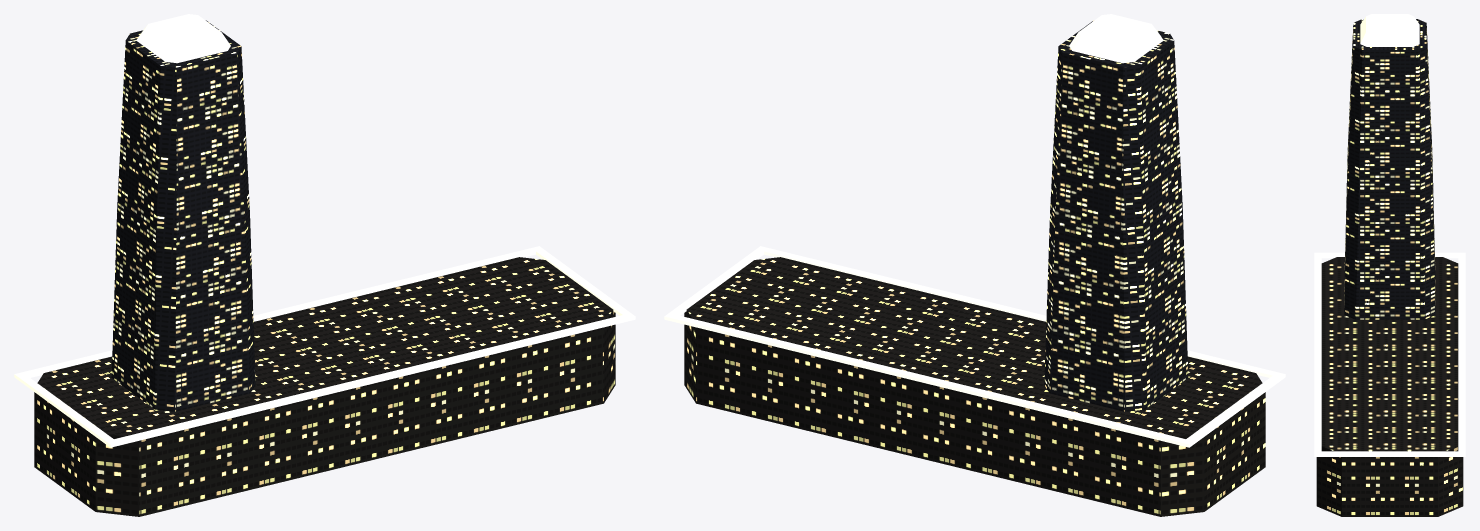
Rendered from jb-city-square.glb.
3 views of the same model, side by side, from view 1: azimuth 30°, elevation 25°; view 2: azimuth 150°, elevation 25°; view 3: azimuth 270°, elevation 25° (orthographic). The views are drawn at different scales.
Visible parts, largest first — view 1: mall, tower, mall-led, crown; view 2: mall, tower, mall-led, crown; view 3: mall, tower, mall-led, crown.
Boxes of the visible parts, x1=… form: mall: x1=34, y1=257, x2=615, y2=516; tower: x1=111, y1=20, x2=255, y2=411; mall-led: x1=14, y1=246, x2=635, y2=447; crown: x1=136, y1=14, x2=230, y2=63; mall: x1=684, y1=257, x2=1265, y2=516; tower: x1=1044, y1=20, x2=1188, y2=411; mall-led: x1=664, y1=246, x2=1285, y2=447; crown: x1=1069, y1=14, x2=1163, y2=63; mall: x1=1316, y1=257, x2=1463, y2=516; tower: x1=1344, y1=19, x2=1435, y2=319; mall-led: x1=1314, y1=252, x2=1465, y2=456; crown: x1=1360, y1=14, x2=1419, y2=46.
Bounding box in the file's own units: 208 × 163 × 66.
Materials: 3 (2 with a texture image).
